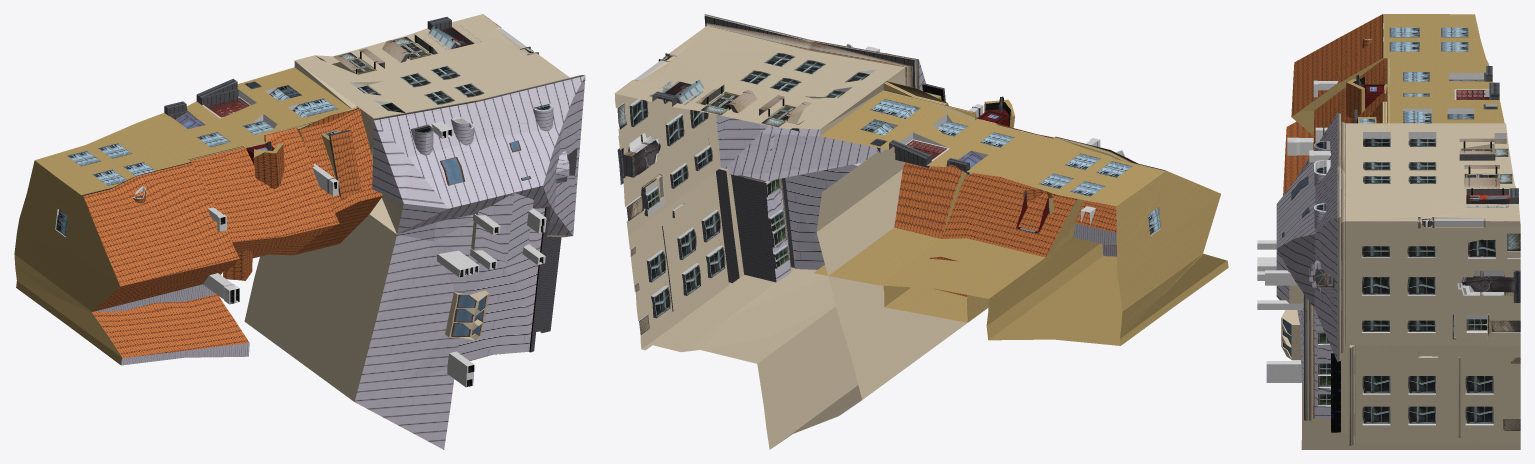
Rendered from Ryytli_2-origo.obj.
The picture shows the model from 3 angles, left to right: view 1: azimuth 30°, elevation 25°; view 2: azimuth 150°, elevation 25°; view 3: azimuth 270°, elevation 25°; orthographic projection. The views are drawn at different scales.
Visible parts, largest first — view 1: Ryytli_2; view 2: Ryytli_2; view 3: Ryytli_2.
Part boxes in pixels (x1,y1,x2,y2): Ryytli_2: (14, 14, 585, 449); Ryytli_2: (614, 14, 1228, 449); Ryytli_2: (1257, 14, 1520, 449).
Bounding box in the file's own units: 37.75 × 24 × 18.27.
